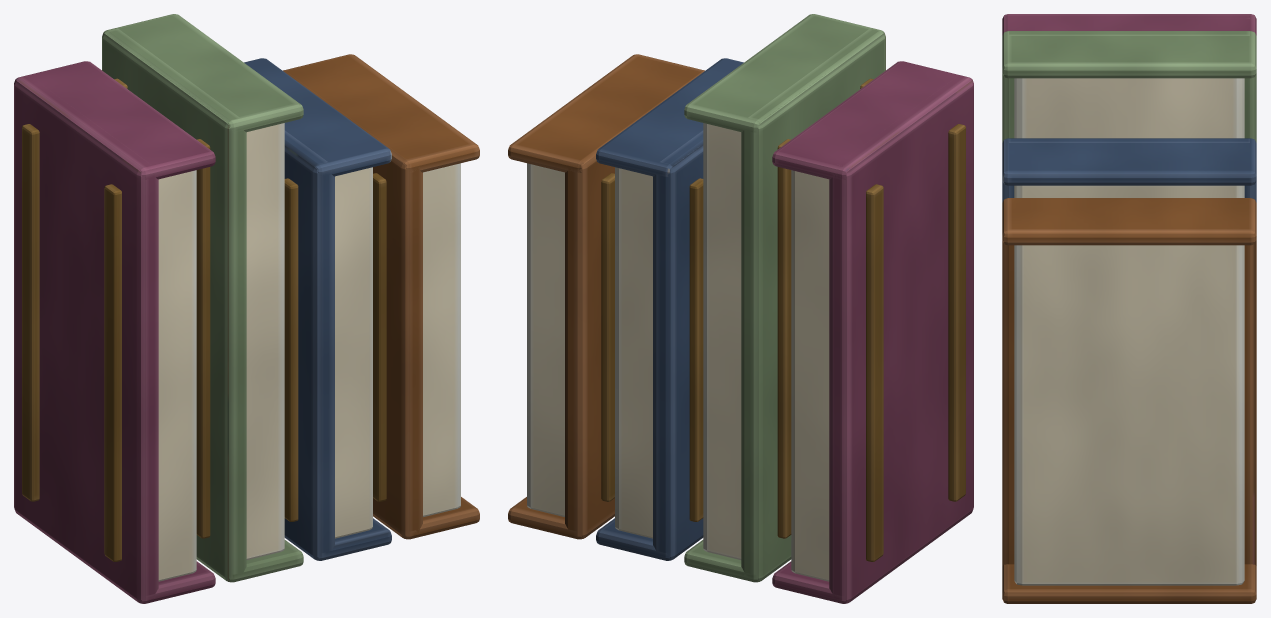
Rendered from 21_Book_Group_3.fbx.
3 views of the same model, side by side, from view 1: azimuth 30°, elevation 25°; view 2: azimuth 150°, elevation 25°; view 3: azimuth 270°, elevation 25° (orthographic).
Visible parts, largest first — view 1: 21_Book_Group_3; view 2: 21_Book_Group_3; view 3: 21_Book_Group_3.
Part boxes in pixels (x1,y1,x2,y2): 21_Book_Group_3: (14, 14, 479, 603); 21_Book_Group_3: (508, 14, 973, 603); 21_Book_Group_3: (1002, 14, 1256, 603).
Bounding box in the file's own units: 29.8 × 37.55 × 19.
1 material, 1 textured.
